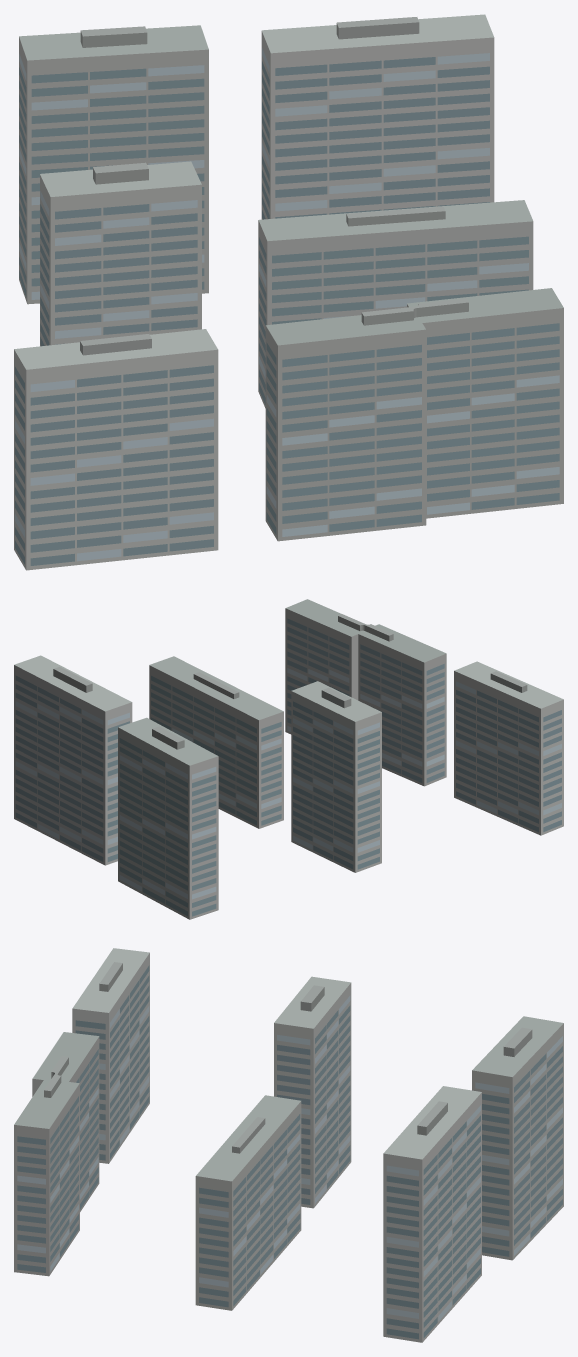
The model's file is apt-a14003104.glb.
3 renders of one model, top to bottom at view 1: azimuth 30°, elevation 25°; view 2: azimuth 150°, elevation 25°; view 3: azimuth 270°, elevation 25°, orthographic. The views are drawn at different scales.
Visible parts, largest first — view 1: apt-a14003104; view 2: apt-a14003104; view 3: apt-a14003104.
Part boxes in pixels (x1=…): apt-a14003104: x1=14, y1=14, x2=563, y2=570; apt-a14003104: x1=14, y1=599, x2=563, y2=919; apt-a14003104: x1=14, y1=948, x2=563, y2=1342.
Size of the model in its own units: 139 by 51 by 132.
